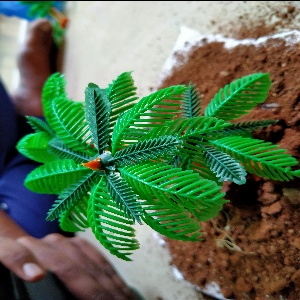plant: (27, 71, 300, 259)
